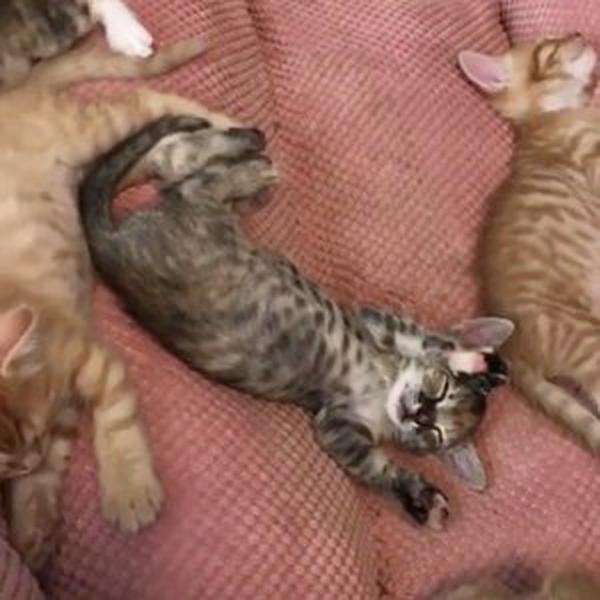michi: (86, 114, 516, 535)
